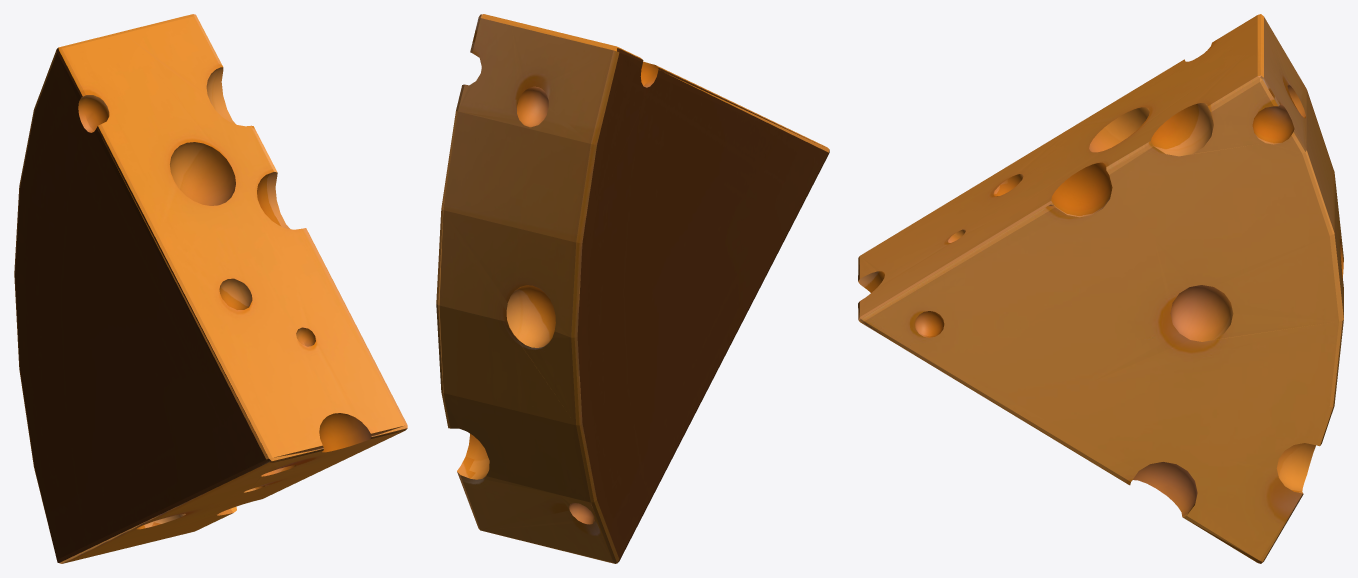
The model's file is CheeseHat.fbx.
The picture shows the model from 3 angles, left to right: view 1: azimuth 30°, elevation 25°; view 2: azimuth 150°, elevation 25°; view 3: azimuth 270°, elevation 25°; orthographic projection. The views are drawn at different scales.
Visible parts, largest first — view 1: Circle; view 2: Circle; view 3: Circle.
Boxes of the visible parts, box(x1,y1,x2,y2) form: Circle: box(14, 14, 407, 563); Circle: box(436, 14, 829, 563); Circle: box(858, 14, 1343, 563).
Bounding box in the file's own units: 0.0795 × 0.279 × 0.2518.
